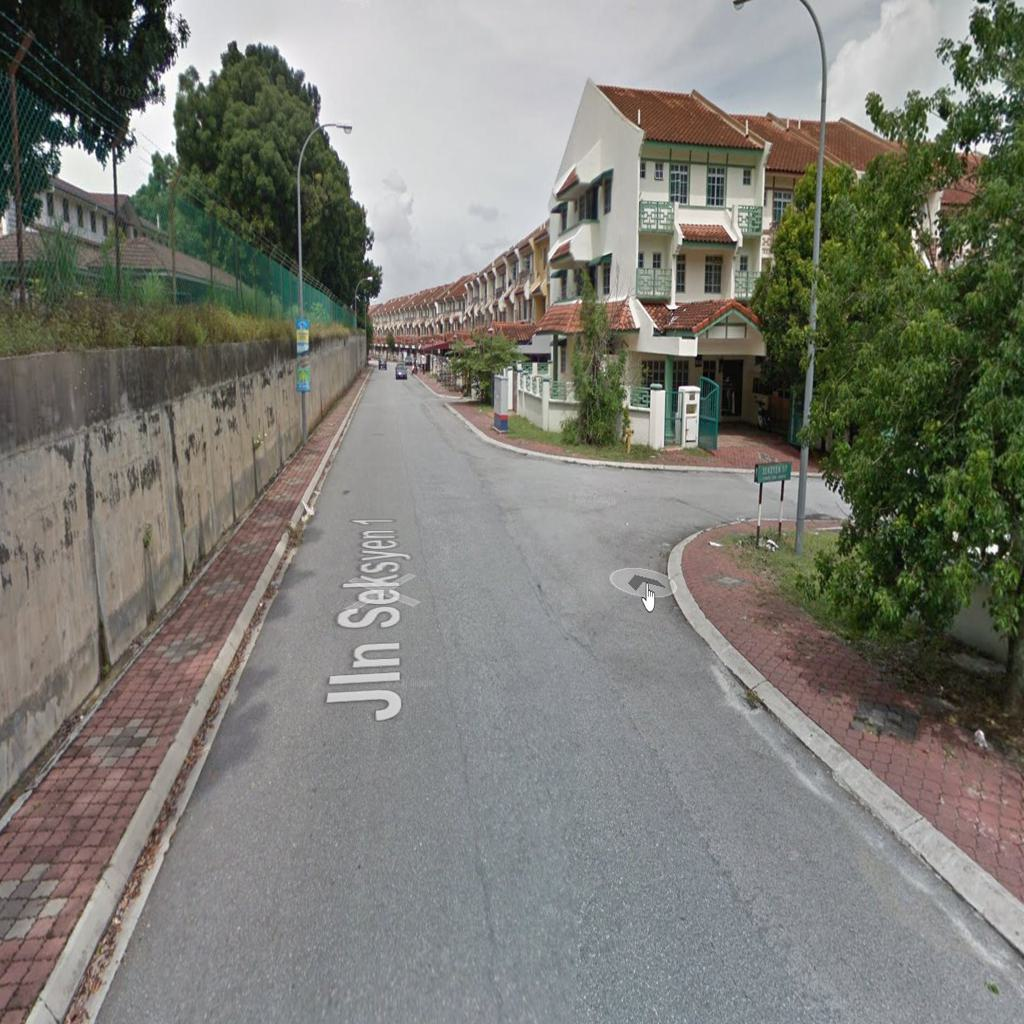Junction: (502, 424, 781, 605)
